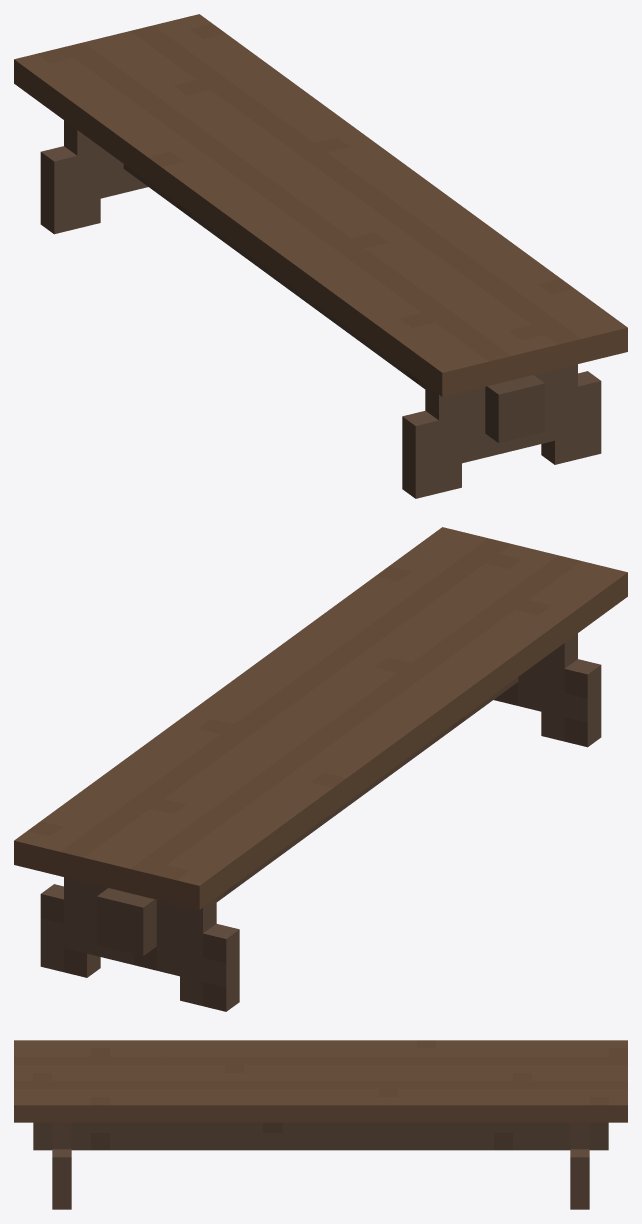
File: skamia.gltf
The picture shows the model from 3 angles, top to bottom: view 1: azimuth 30°, elevation 25°; view 2: azimuth 150°, elevation 25°; view 3: azimuth 270°, elevation 25°; orthographic projection. The views are drawn at different scales.
Visible parts, largest first — view 1: cube (×9); view 2: cube (×9); view 3: cube (×8).
Part boxes in pixels (x1=…): cube (×9): x1=14, y1=14, x2=627, y2=498; cube (×9): x1=14, y1=527, x2=627, y2=1011; cube (×8): x1=14, y1=1040, x2=627, y2=1209.
Bounding box in the file's own units: 0.5 × 0.375 × 2.
Materials: 1 (1 with a texture image).
